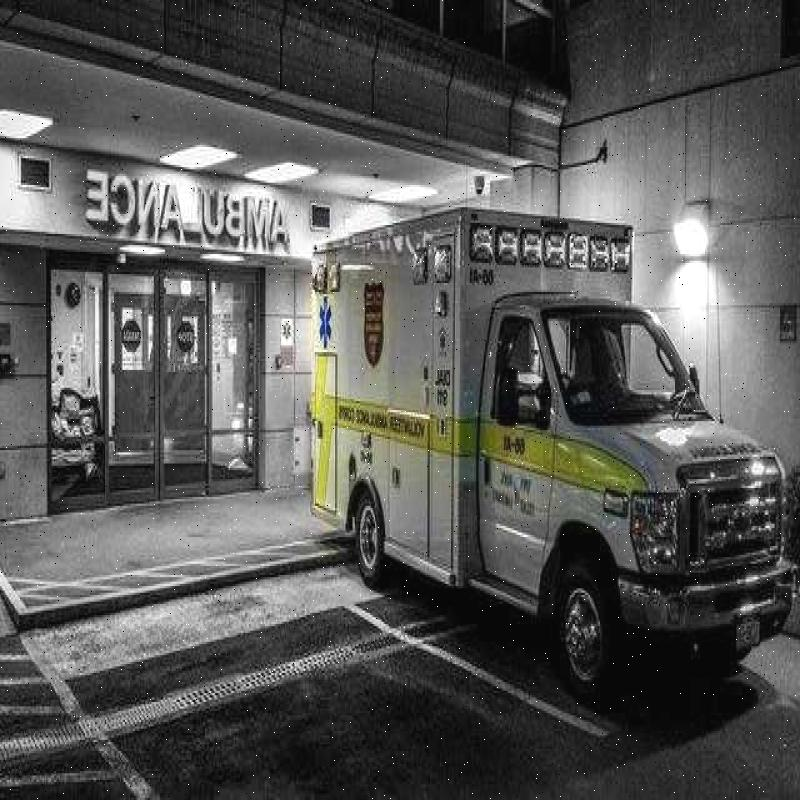AmbulanceSiren: (466, 211, 632, 296)
